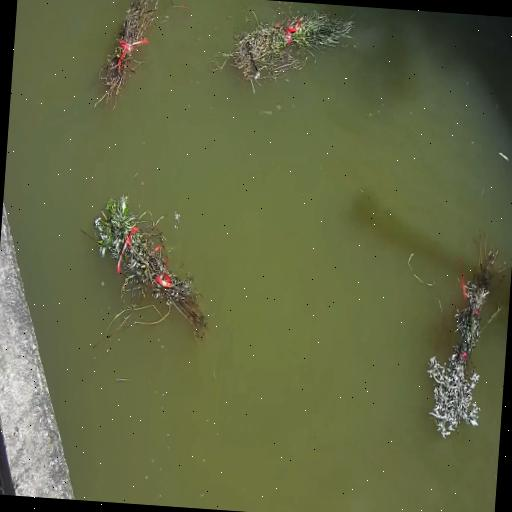twig: (80, 190, 216, 346), (416, 226, 512, 442), (220, 0, 358, 100), (95, 0, 167, 115)
